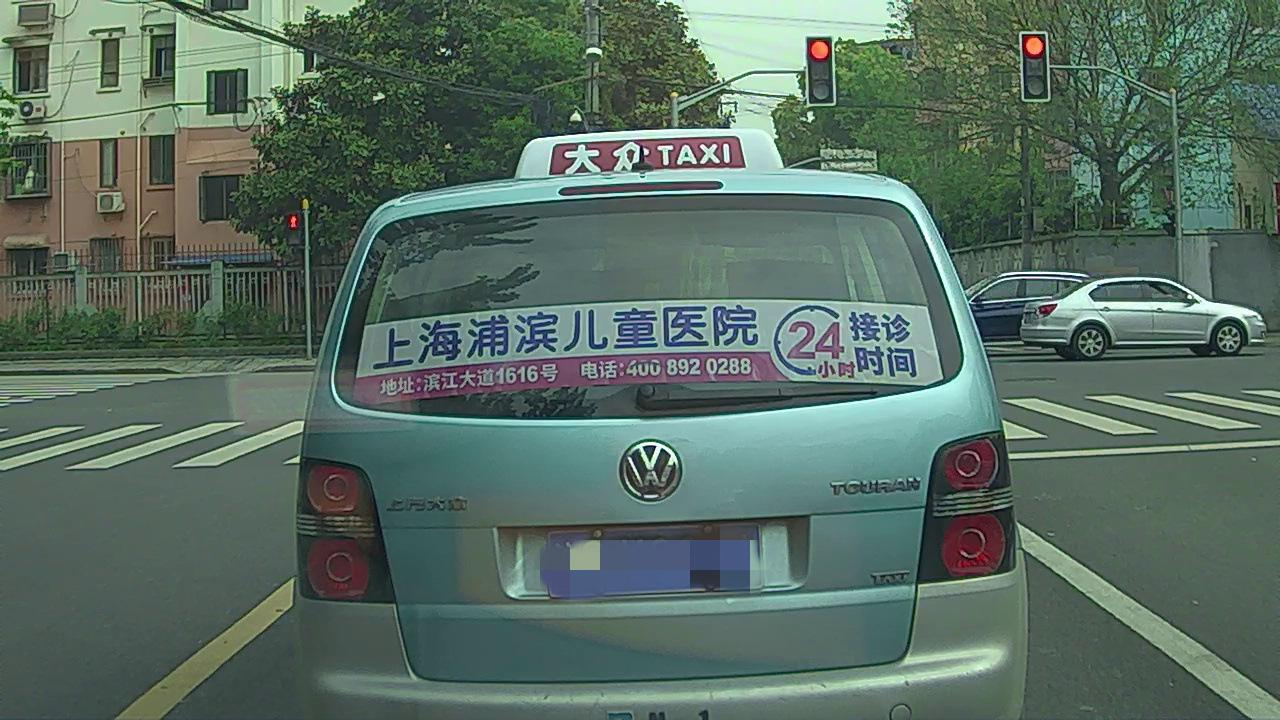traffic_light: (1024, 31, 1050, 100), (809, 37, 834, 103)
